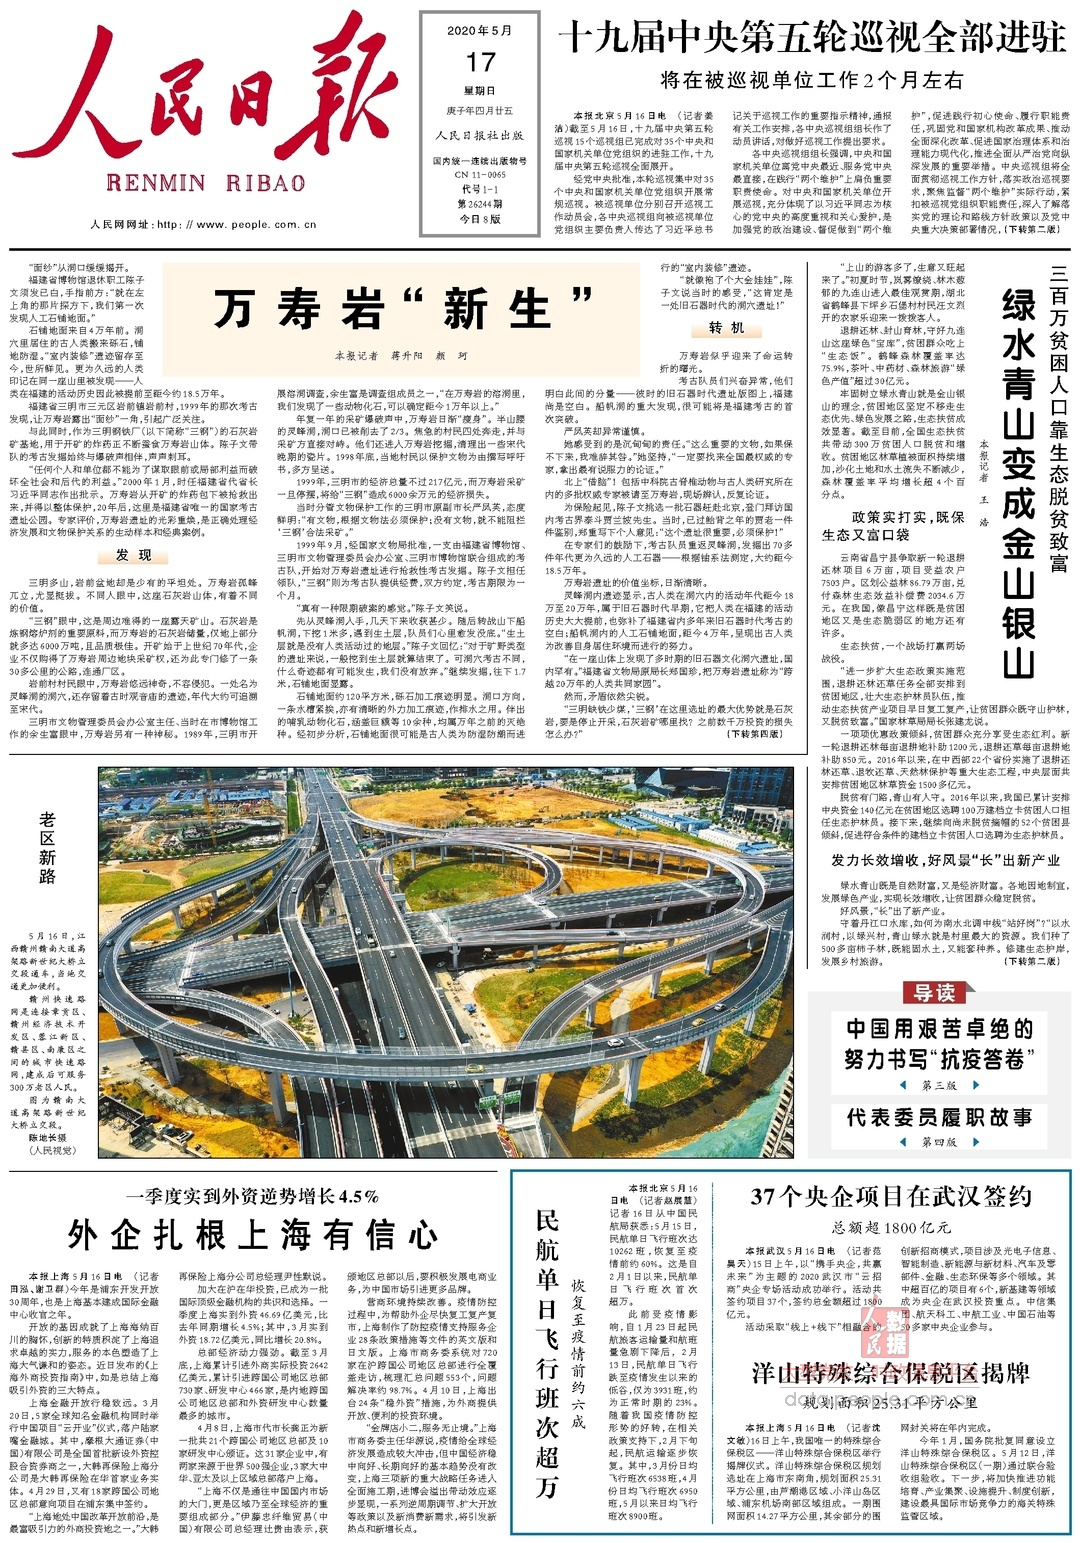pic: (94, 762, 800, 1160)
